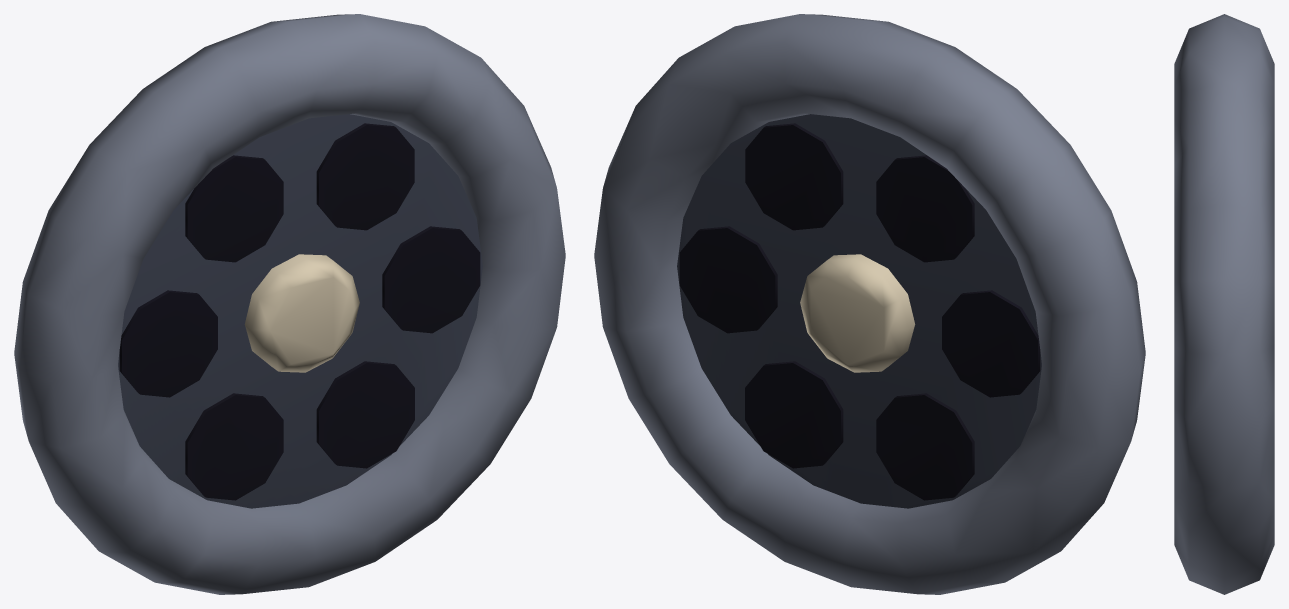
The model's file is SM_Station_Projector_Reel.fbx.
The picture shows the model from 3 angles, left to right: view 1: azimuth 30°, elevation 25°; view 2: azimuth 150°, elevation 25°; view 3: azimuth 270°, elevation 25°; orthographic projection. The views are drawn at different scales.
Visible parts, largest first — view 1: SM_Station_Projector_Reel; view 2: SM_Station_Projector_Reel; view 3: SM_Station_Projector_Reel.
Boxes of the visible parts, box(x1,y1,x2,y2) form: SM_Station_Projector_Reel: box(14, 14, 565, 594); SM_Station_Projector_Reel: box(594, 14, 1145, 594); SM_Station_Projector_Reel: box(1174, 14, 1274, 594).
Size of the model in its own units: 70.04 by 70.04 by 12.04.
